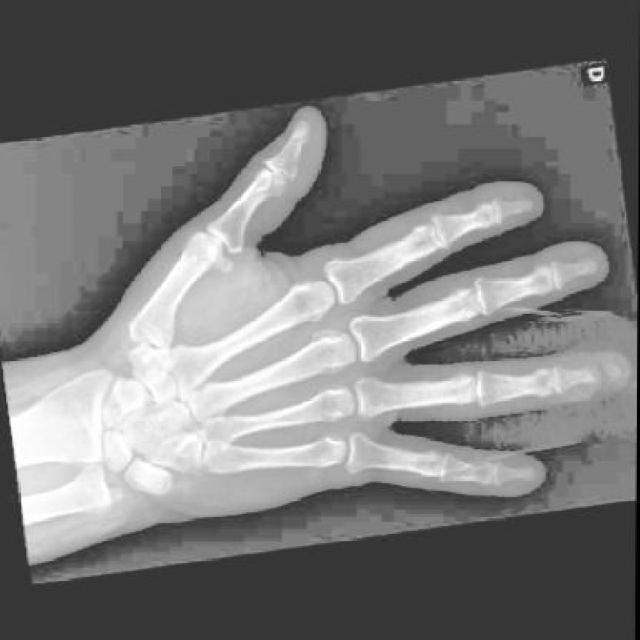Fracture: (582, 352, 621, 386)
